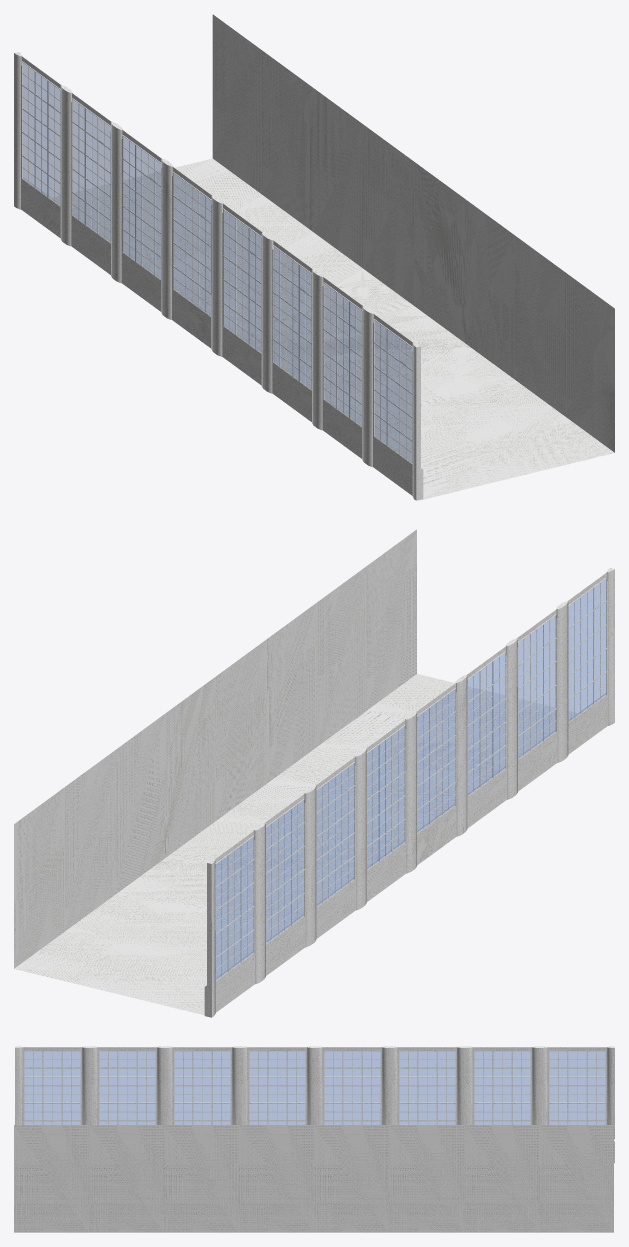
File: Library_2.dae
3 views of the same model, one above another, from view 1: azimuth 30°, elevation 25°; view 2: azimuth 150°, elevation 25°; view 3: azimuth 270°, elevation 25° (orthographic). The views are drawn at different scales.
Visible parts, largest first — view 1: SketchUp, LibraryPane_wBottom_2 (×8), WindowSide_1 (×8); view 2: SketchUp, LibraryPane_wBottom_2 (×8), WindowSide_1 (×8); view 3: SketchUp, LibraryPane_wBottom_2 (×8), WindowSide_1 (×8).
Part boxes in pixels (x1,y1,x2,y2): SketchUp: [52, 14, 614, 500]; LibraryPane_wBottom_2 (×8): [14, 52, 423, 500]; WindowSide_1 (×8): [18, 53, 418, 498]; SketchUp: [14, 529, 577, 1015]; LibraryPane_wBottom_2 (×8): [204, 568, 614, 1017]; WindowSide_1 (×8): [209, 572, 607, 1016]; SketchUp: [14, 1125, 613, 1232]; LibraryPane_wBottom_2 (×8): [15, 1046, 614, 1163]; WindowSide_1 (×8): [22, 1047, 607, 1124].
Bounding box in the file's own units: 1092 × 3846 × 808.
